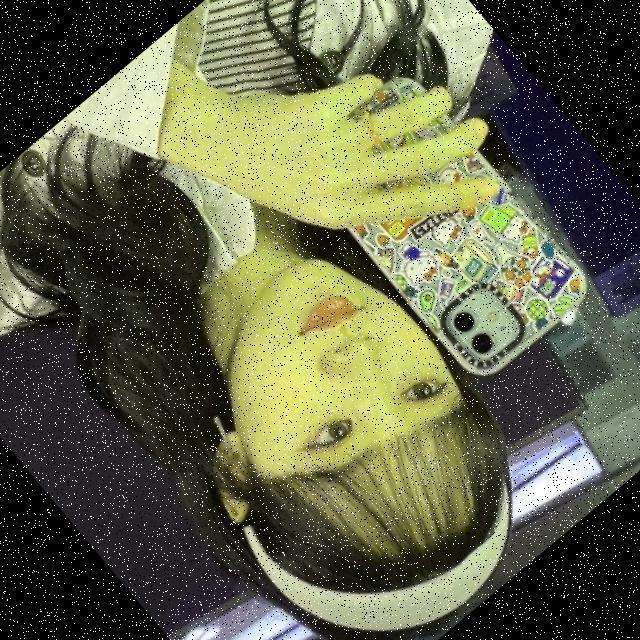phone: (287, 60, 601, 394)
